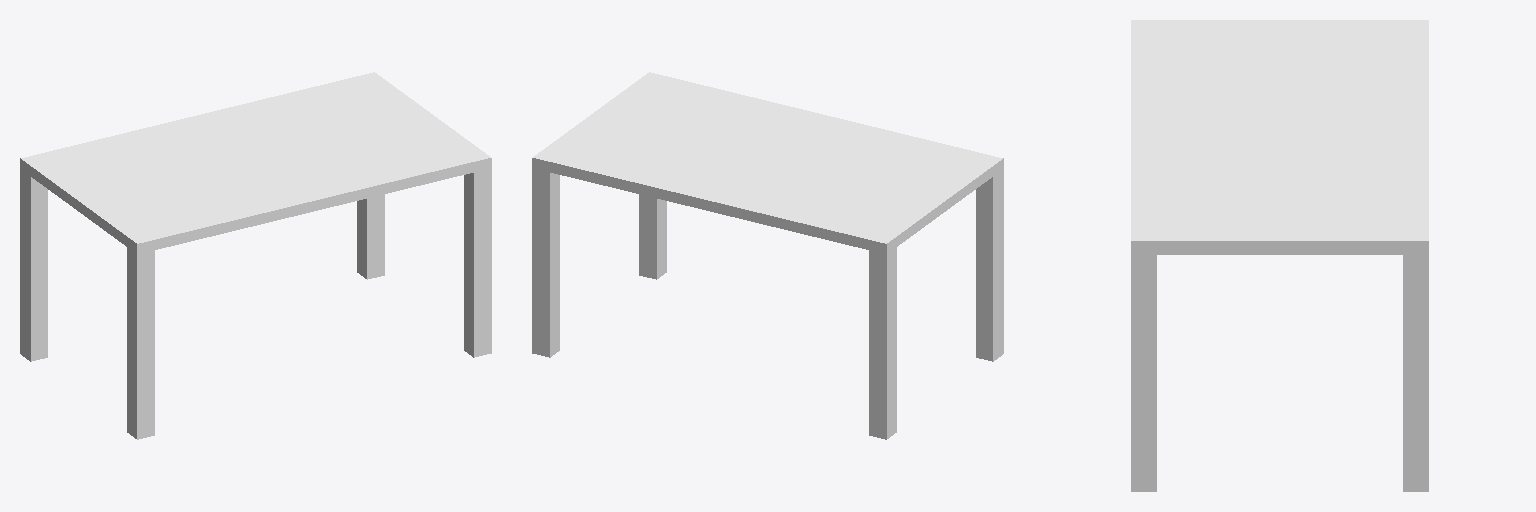
URDF robot description (playtable):
<?xml version="1.0" ?>
<robot name="playtable">
 <link name="baseLink">
   <contact>
     <lateral_friction value="0.5"/>
   </contact>
   <inertial>
     <origin rpy="0 0 0" xyz="0.699945 0.398587 0.636588"/>
      <mass value="1.0"/>
      <inertia ixx="0.007425" ixy="-0.000000" ixz="-0.000000" iyy="0.018247" iyz="0.000005" izz="0.021073"/>
   </inertial>
   <visual>
     <origin rpy="0 0 0" xyz="0 0 0"/>
     <geometry>
       <mesh filename="playtable.obj" scale="1.0 1.0 1.0"/>
     </geometry>
      <material name="white">
       <color rgba="1 1 1 1"/>
     </material>
   </visual>
   <collision>
     <origin rpy="0 0 0" xyz="0 0 0"/>
     <geometry>
       <mesh filename="playtable_vhacd2.obj" scale="1.0 1.0 1.0"/>
     </geometry>
   </collision>
 </link>
</robot>

--- What the picture shows (computed from the rendered views, not written in the file) ---
The picture shows the robot from 3 angles, left to right: view 1: azimuth 30°, elevation 25°; view 2: azimuth 150°, elevation 25°; view 3: azimuth 270°, elevation 25°; orthographic projection.
Robot: playtable — 1 links, 0 joints (none); root link baseLink; default pose: every joint at zero.
Links seen in each view (by area): view 1: baseLink; view 2: baseLink; view 3: baseLink.
Link boxes in pixels (x1,y1,x2,y2): baseLink: [20, 72, 491, 439]; baseLink: [532, 72, 1003, 439]; baseLink: [1131, 20, 1428, 491].
Size in the robot's own frame: 1.4 by 0.8 by 0.74 metres.
1 mesh visuals loaded from 1 distinct referenced files (1 OBJ).